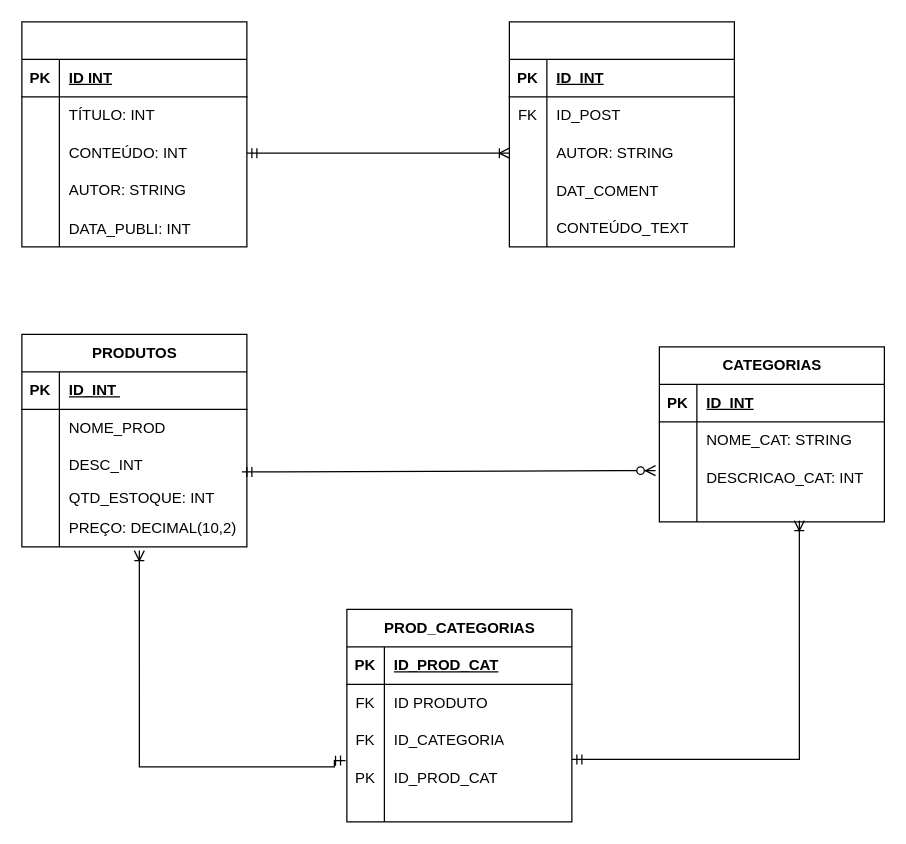
This 906x844 diagram has some shape labels left out. The shapes that lost their labels are listed below. From the top down, each one's box as (x1, y1, x2, y2) in pixels, then its label:
(21, 21, 247, 247): POSTS
(508, 21, 734, 247): COMENTÁRIOS
